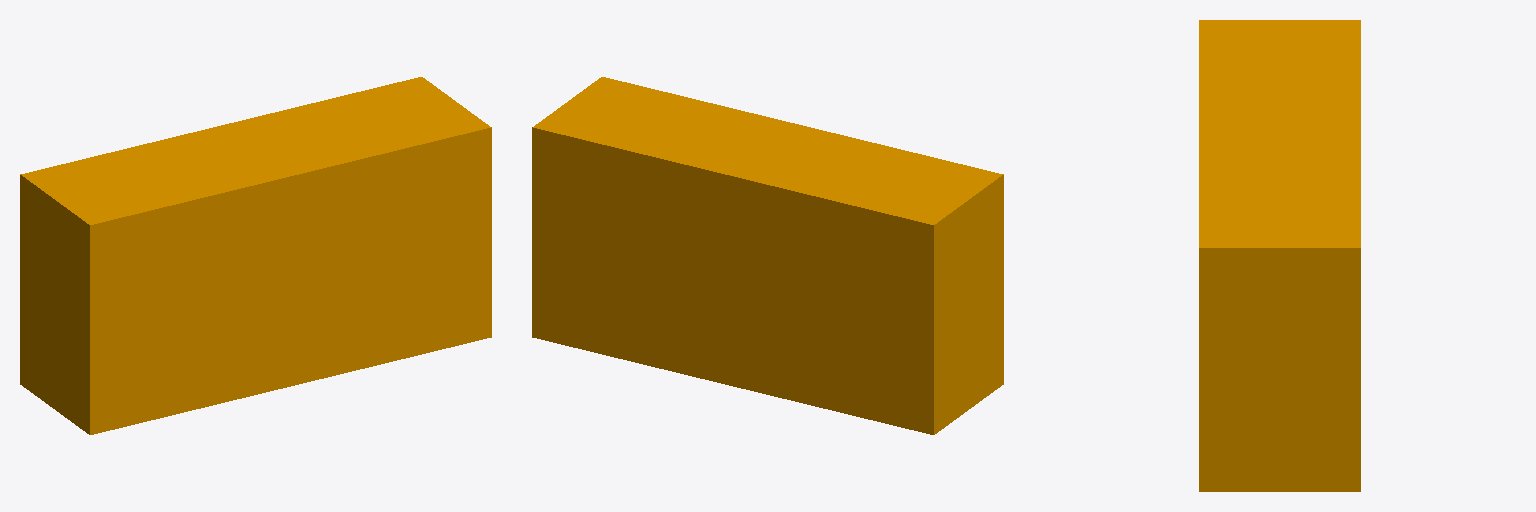
robot.urdf — simple_box:
<robot name="simple_box">
  <link name="my_box">
    <inertial>
      <origin xyz="0.73 0.0 0.0" /> 
      <mass value="1.0" />
      <inertia ixx="1.0" ixy="0.0" ixz="0.0" iyy="1.0" iyz="0.0" izz="1.0" />
    </inertial>
    <visual>
      <origin xyz="0.73 0.0 0.0"/>
      <geometry>
        <box size="0.1 0.03 0.05" />
      </geometry>
    </visual>
    <collision>
      <origin xyz="0.73 0.0 0.0"/>
      <geometry>
        <box size="0.1 0.03 0.05" />
      </geometry>
    </collision>
  </link>
  <gazebo reference="my_box">
    <material>Gazebo/Red</material>
  </gazebo>
</robot>

--- Facts derived from the render (not from the file) ---
3 views of the same robot in one strip: view 1: azimuth 30°, elevation 25°; view 2: azimuth 150°, elevation 25°; view 3: azimuth 270°, elevation 25° (orthographic).
Robot: simple_box — 1 links, 0 joints (none); root link my_box; default pose: all joints at 0.
Visible links, largest first — view 1: my_box; view 2: my_box; view 3: my_box.
Link boxes in pixels (bbox=[...]): my_box: bbox=[20, 77, 491, 434]; my_box: bbox=[532, 77, 1003, 434]; my_box: bbox=[1199, 20, 1360, 491].
Bounding box of the posed robot: 0.1 × 0.03 × 0.05 m (x, y, z).
Geometry: primitives only (box / cylinder / sphere), no mesh files.